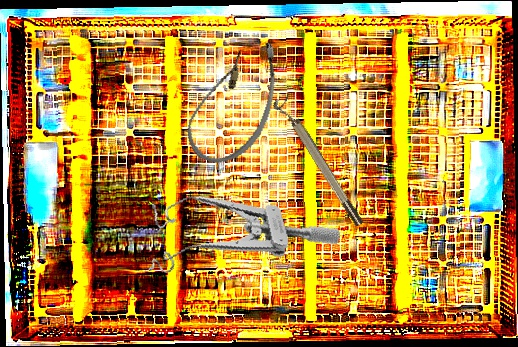Cannula: (178, 26, 292, 175)
Fixation Ring: (270, 92, 367, 232)
Speculum: (130, 161, 345, 290)
